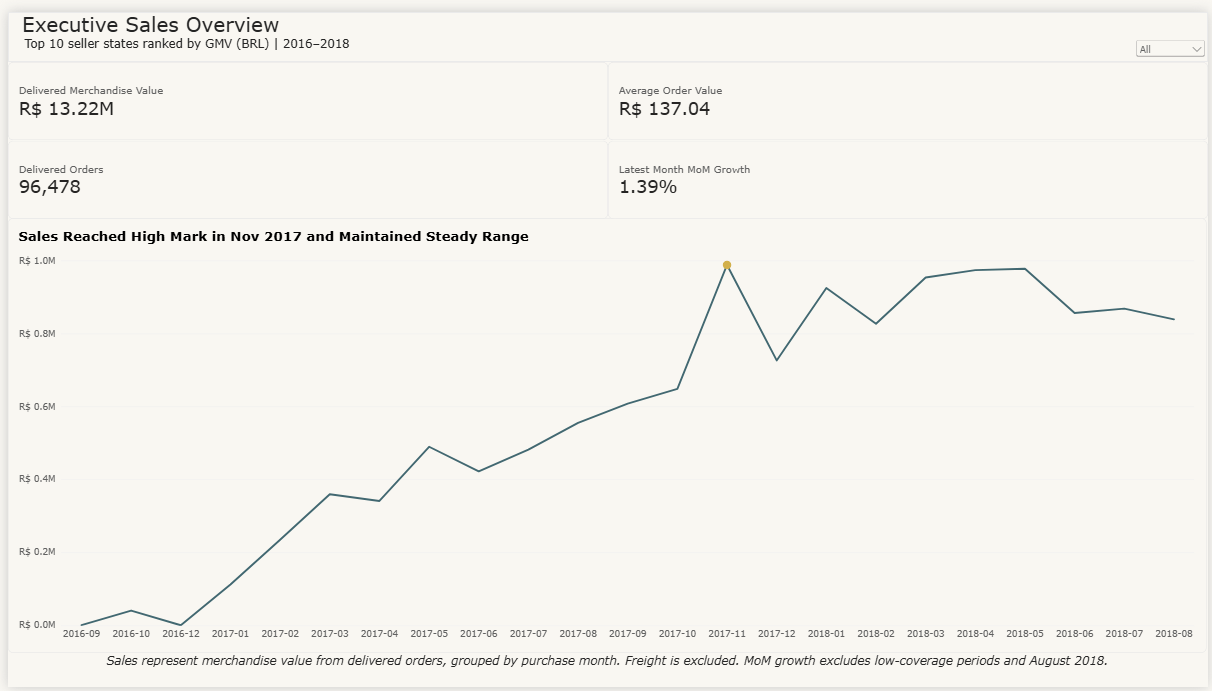

Layout of this report page (visuals, bound fields, positions):
{"tool":"powerbi","page":{"name":"Executive Overview","canvas":[1920,1080],"ordinal":0},"visuals":[{"type":"cardVisual","fields":{"Data":["Orders.Delivered Merchandise Value"]},"box":[0,80,960,125],"z":0},{"type":"cardVisual","fields":{"Data":["Orders.Delivered Orders"]},"box":[0,205,960,125],"z":1000},{"type":"cardVisual","fields":{"Data":["Orders.Average Order Value"]},"box":[960,80,960,125],"z":2000},{"type":"lineChart","title":"Sales Reached High Mark in Nov 2017 and Maintained Steady Range","fields":{"Category":["Orders.purchase_month"],"Y":["Orders.Delivered Merchandise Value"]},"box":[0,330,1917.5,695],"z":3000},{"type":"textbox","box":[0,0,1920,80],"z":4000},{"type":"slicer","fields":{"Values":["Orders.purchase_year"]},"box":[1800,40,120,40],"z":5000},{"type":"cardVisual","title":"Latest Complete Month MoM Growth","fields":{"Data":["Orders.Latest Month MoM Growth"]},"box":[960,205,960,125],"z":6000},{"type":"textbox","box":[0,1025,1917.5,55],"z":7000}]}

Visuals, with their boxes in screenshot pixels (x1, y1, x2, y2), scaled from the page's 1920x1080 canvas onto the 1212x691 screenshot:
cardVisual - Orders.Delivered Merchandise Value: 0,51,606,131
cardVisual - Orders.Delivered Orders: 0,131,606,211
cardVisual - Orders.Average Order Value: 606,51,1211,131
"Sales Reached High Mark in Nov 2017 and Maintained Steady Range" lineChart: 0,211,1210,656
textbox: 0,0,1211,51
slicer - Orders.purchase_year: 1136,26,1211,51
"Latest Complete Month MoM Growth" cardVisual: 606,131,1211,211
textbox: 0,656,1210,690
